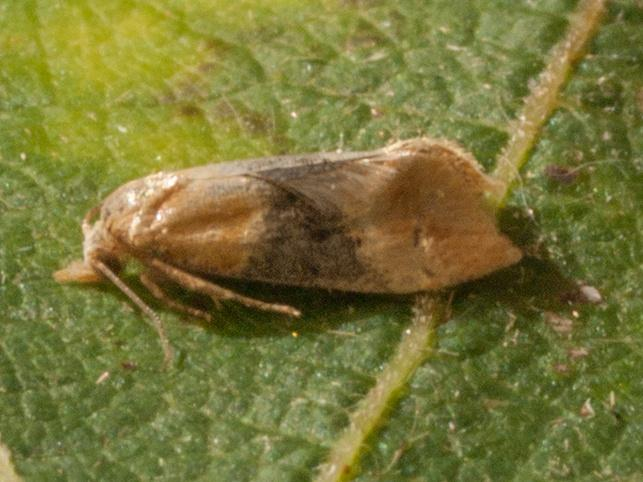Eupoecilia Ambiguella: (52, 137, 524, 371)
